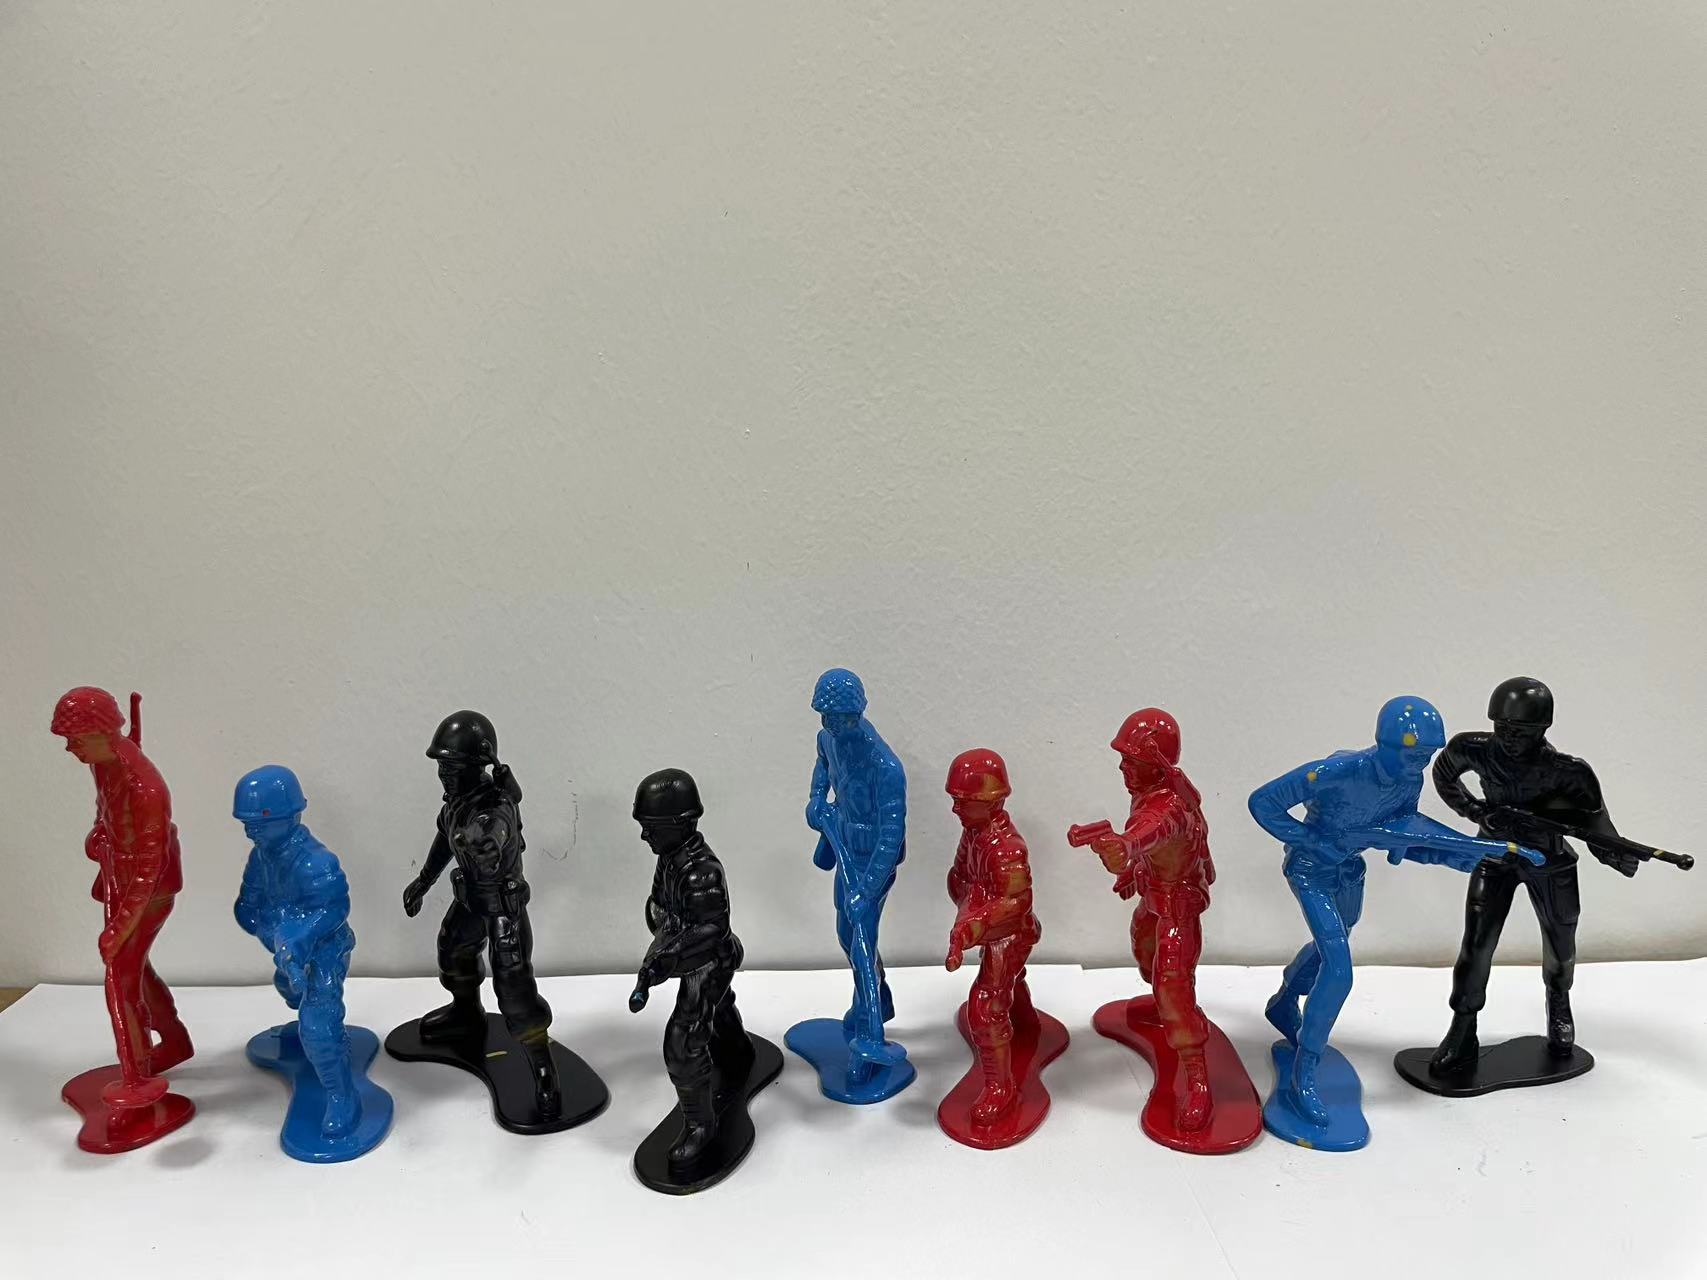black: (1425, 663, 1680, 1101), (401, 690, 610, 1158), (616, 750, 784, 1211)
blue: (1239, 666, 1444, 1167), (220, 738, 391, 1176), (796, 651, 927, 1121)
red: (34, 639, 220, 1176), (1058, 678, 1259, 1172), (913, 735, 1074, 1152)
